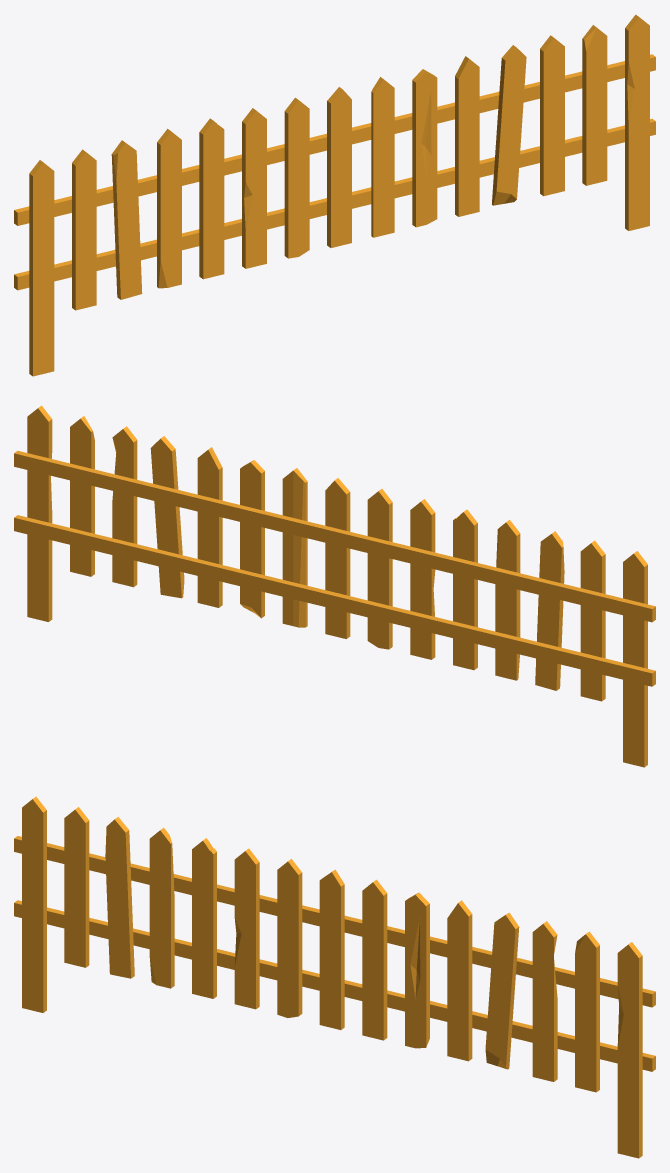
Rendered from SM_Fence_Picket_3m.fbx.
3 views of the same model, one above another, from view 1: azimuth 30°, elevation 25°; view 2: azimuth 150°, elevation 25°; view 3: azimuth 330°, elevation 25° (orthographic).
Visible parts, largest first — view 1: fence-picket-3m; view 2: fence-picket-3m; view 3: fence-picket-3m.
Boxes of the visible parts, x1=… form: fence-picket-3m: x1=14, y1=14, x2=655, y2=376; fence-picket-3m: x1=14, y1=405, x2=655, y2=767; fence-picket-3m: x1=14, y1=796, x2=655, y2=1158.
Size of the model in its own units: 3 by 0.9499 by 0.06.
